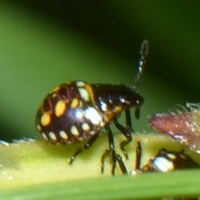insect: (36, 40, 148, 174)
